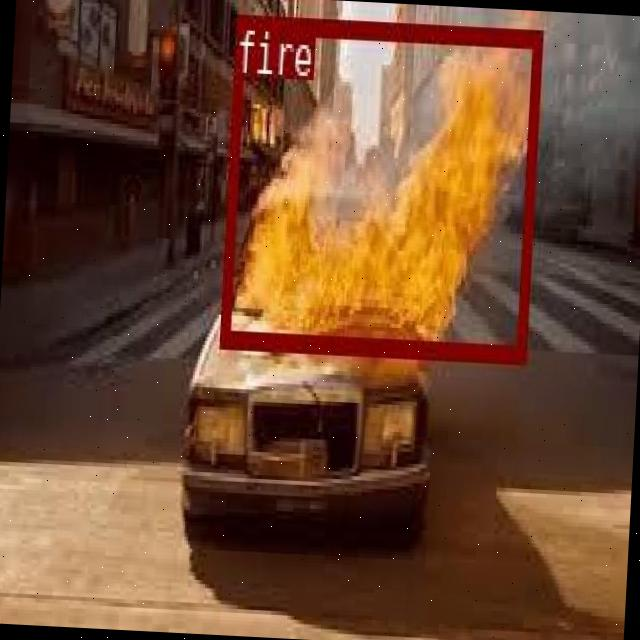fire: (220, 15, 540, 358)
